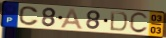8: (85, 10, 101, 31), (42, 7, 58, 28)
A: (60, 8, 85, 31)
C: (129, 12, 150, 35), (18, 6, 40, 27)
D: (109, 11, 129, 33)
